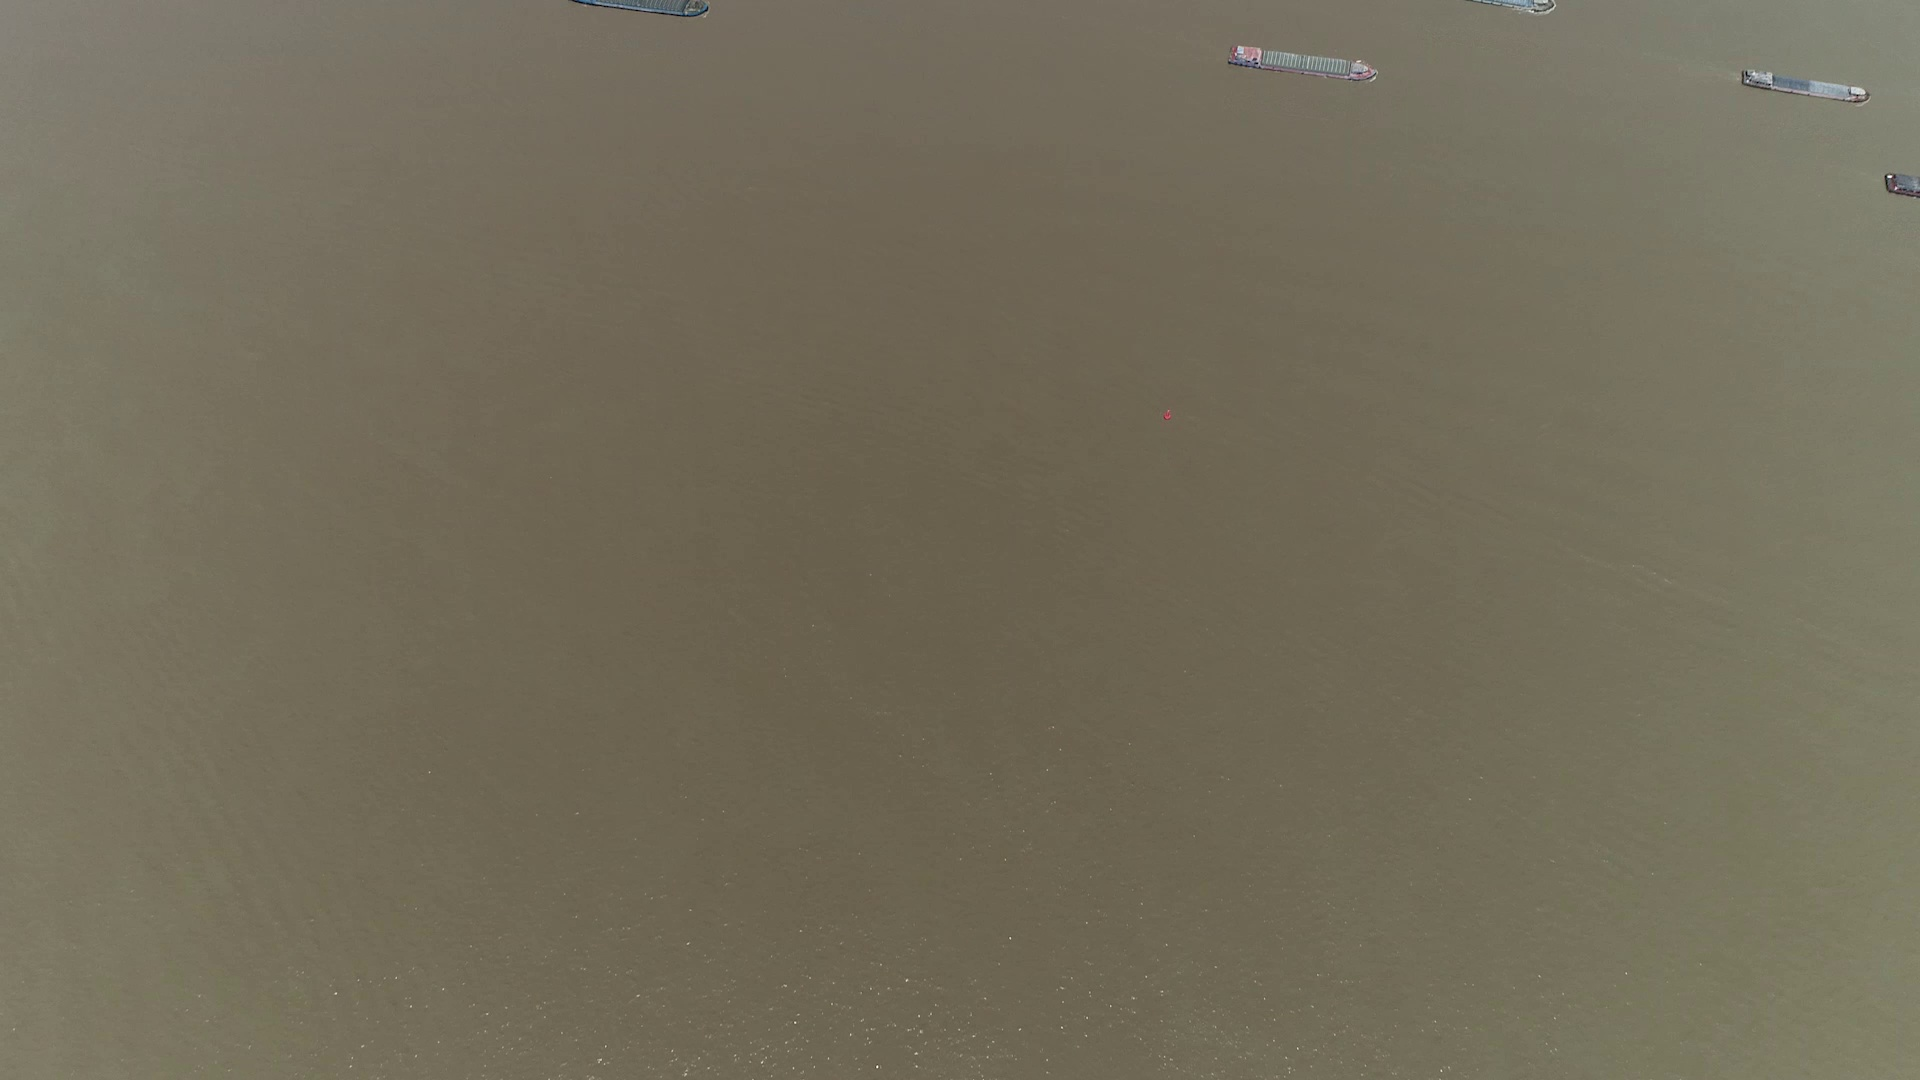ship: (1228, 44, 1375, 80), (1741, 69, 1869, 102), (568, 0, 712, 15), (1880, 171, 1919, 200), (1474, 0, 1556, 12)
